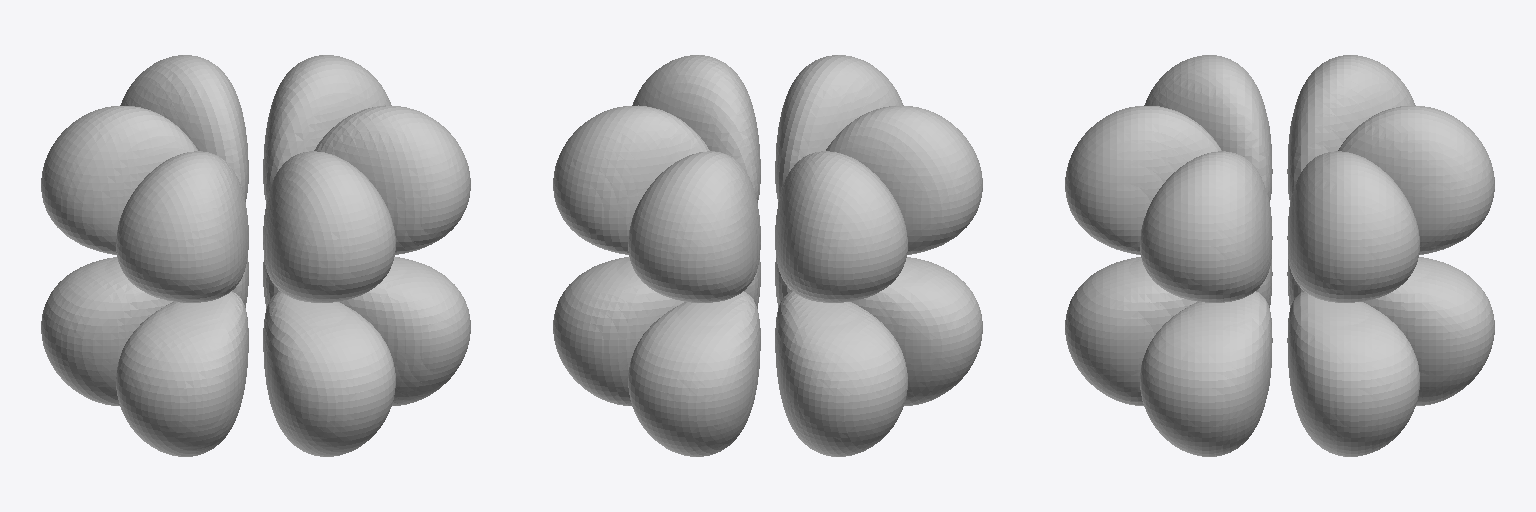
File: orb_n=5_ l=4 _m=-3.obj
3 renders of one model, left to right at view 1: azimuth 30°, elevation 25°; view 2: azimuth 150°, elevation 25°; view 3: azimuth 270°, elevation 25°, orthographic.
Visible parts, largest first — view 1: orb_n=5__l=4__m=-3; view 2: orb_n=5__l=4__m=-3; view 3: orb_n=5__l=4__m=-3.
Boxes of the visible parts, x1=… form: orb_n=5__l=4__m=-3: x1=41, y1=55, x2=470, y2=456; orb_n=5__l=4__m=-3: x1=553, y1=55, x2=982, y2=456; orb_n=5__l=4__m=-3: x1=1065, y1=55, x2=1494, y2=456.
Size of the model in its own units: 80.82 by 66.85 by 88.9.